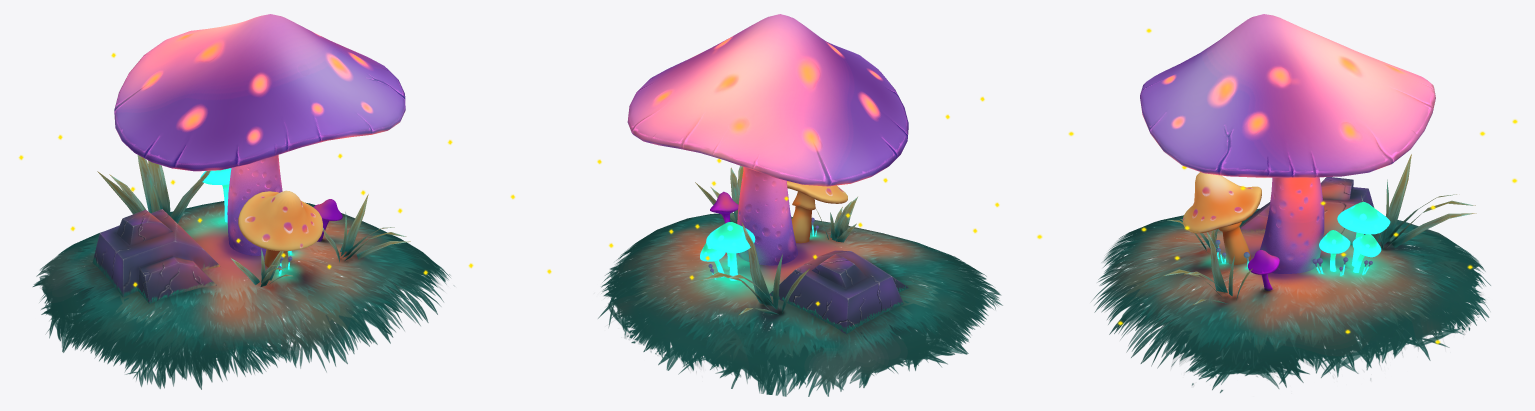
Rendered from mod2.gltf.
3 views of the same model, side by side, from view 1: azimuth 30°, elevation 25°; view 2: azimuth 150°, elevation 25°; view 3: azimuth 270°, elevation 25° (orthographic). The views are drawn at different scales.
Parts seen in each view (by area): view 1: Plane, Circle, Cube.001, Circle.001, Plane.002, Cube, Plane.003, Plane.001, Circle.002, Circle.005; view 2: Plane, Circle, Cube.001, Circle.001, Plane.002, Circle.002, Cube, Plane.001, Plane.003, Circle.005; view 3: Plane, Circle, Circle.001, Plane.002, Cube.001, Circle.002, Plane.003, Circle.005, Cube, Circle.004, Circle.006, Plane.004.
Part boxes in pixels (x1,y1,x2,y2): Plane: (33,201,450,389); Circle: (114,14,405,255); Cube.001: (92,209,220,303); Circle.001: (238,190,322,269); Plane.002: (97,155,210,223); Cube: (116,209,172,245); Plane.003: (323,194,410,262); Plane.001: (230,248,292,286); Circle.002: (200,168,231,222); Circle.005: (313,199,342,241); Plane: (598,213,1002,396); Circle: (627,14,908,265); Cube.001: (769,250,908,334); Circle.001: (787,181,847,243); Plane.002: (701,222,809,314); Circle.002: (706,222,755,280); Cube: (812,254,865,288); Plane.001: (816,197,857,242); Plane.003: (695,165,743,223); Circle.005: (710,191,738,223); Plane: (1091,208,1490,392); Circle: (1140,14,1435,273); Circle.001: (1182,172,1261,264); Plane.002: (1361,154,1476,249); Cube.001: (1240,187,1374,245); Circle.002: (1337,202,1390,266); Plane.003: (1163,232,1252,304); Circle.005: (1248,250,1279,290); Cube: (1320,177,1353,200); Circle.004: (1319,230,1350,271); Circle.006: (1352,234,1381,272); Plane.004: (1037,28,1517,344).
Bounding box in the file's own units: 5.83 × 4.17 × 5.99.
Materials: 2 (2 with a texture image).
